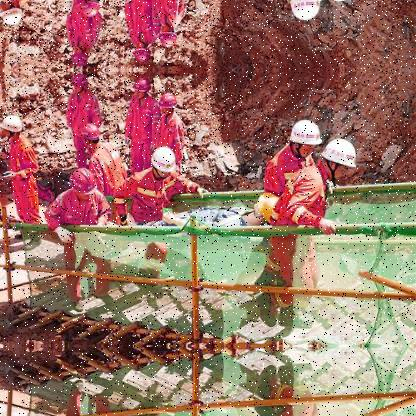Helmet: (284, 114, 324, 161), (321, 135, 358, 178), (150, 143, 178, 180), (285, 0, 325, 23), (72, 168, 96, 201), (2, 1, 30, 29), (0, 117, 30, 139), (73, 43, 94, 72), (158, 26, 182, 47), (160, 95, 182, 116), (82, 122, 103, 142), (132, 46, 152, 65), (134, 76, 148, 95), (72, 78, 87, 92)
